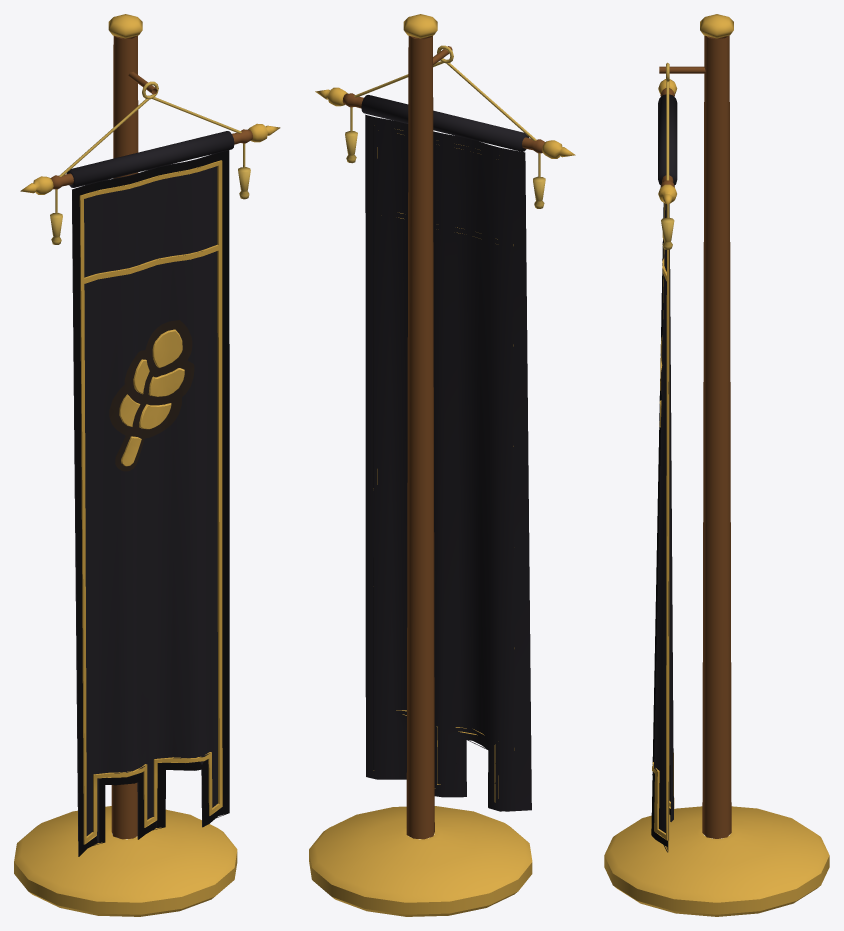
Rendered from km_gonfalon_people-Dg5omK0I.glb.
3 views of the same model, side by side, from view 1: azimuth 30°, elevation 25°; view 2: azimuth 150°, elevation 25°; view 3: azimuth 270°, elevation 25° (orthographic).
Visible parts, largest first — view 1: people_cloth, people_stand_foot, people_hem, people_gold_trim, people_stand_pole, people_sigil_backing, people_sigil_gold, people_sleeve, people_cord, people_finials, people_stand_knob, people_tassels; view 2: people_cloth, people_stand_pole, people_stand_foot, people_sleeve, people_cord, people_finials, people_stand_knob, people_tassels, people_hem; view 3: people_stand_pole, people_stand_foot, people_cloth, people_gold_trim, people_sleeve, people_hem, people_stand_knob, people_cord.
Boxes of the visible parts, x1,y1,x2,y2 form: people_cloth: (72,150,226,856); people_stand_foot: (14,806,237,916); people_hem: (72,150,229,856); people_gold_trim: (79,160,222,844); people_stand_pole: (111,35,157,839); people_sigil_backing: (109,320,194,471); people_sigil_gold: (119,329,184,466); people_sleeve: (66,131,234,187); people_cord: (55,81,245,213); people_finials: (20,123,280,194); people_stand_knob: (108,14,142,38); people_tassels: (50,167,250,244); people_cloth: (365,115,531,811); people_stand_pole: (406,35,452,839); people_stand_foot: (309,806,532,916); people_sleeve: (361,95,529,151); people_cord: (350,45,540,177); people_finials: (315,87,575,158); people_stand_knob: (403,14,437,38); people_tassels: (345,131,545,208); people_hem: (373,125,515,811); people_stand_pole: (659,35,731,838); people_stand_foot: (604,806,829,916); people_cloth: (653,203,673,851); people_gold_trim: (652,203,674,840); people_sleeve: (658,94,677,185); people_hem: (651,203,670,852); people_stand_knob: (700,14,733,38); people_cord: (666,62,669,218).
Bounding box in the file's own units: 0.107 × 0.335 × 0.08.
